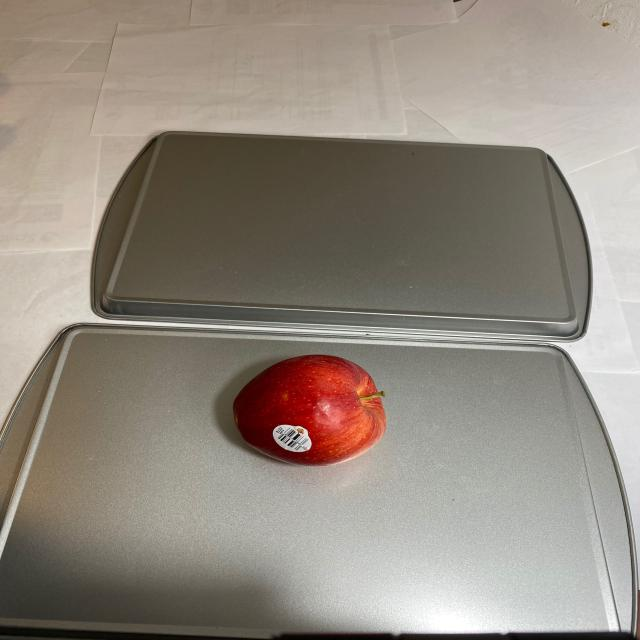apple: (229, 354, 390, 464)
